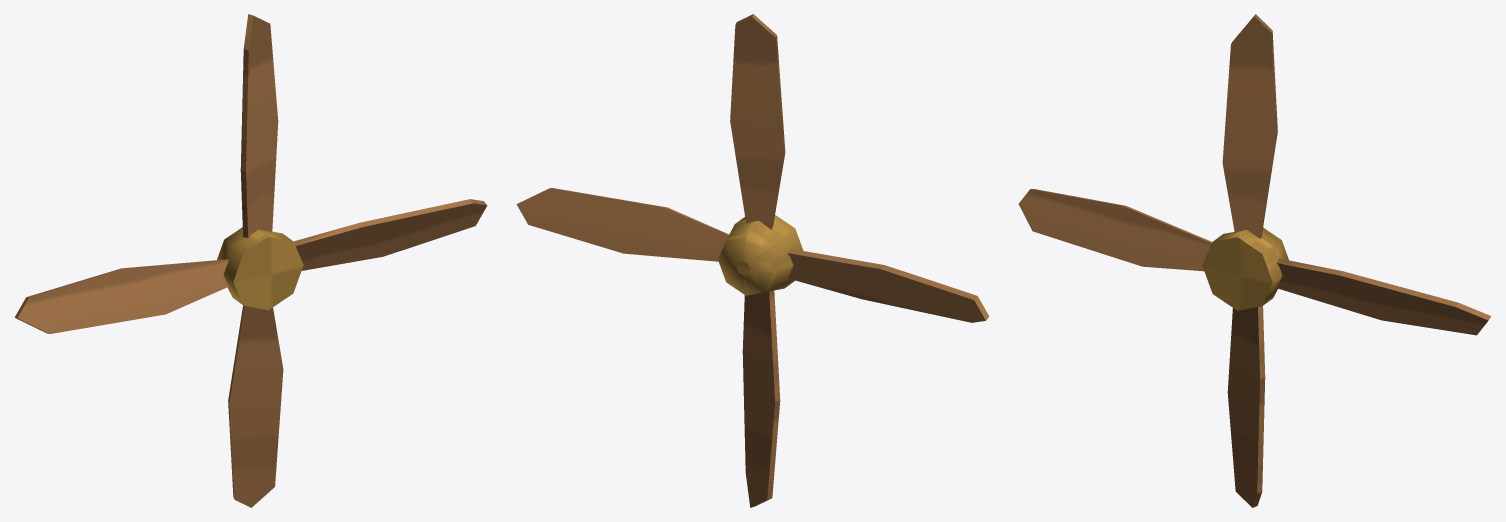
Rendered from SM_Ship_Propeller_HQ.glb.
The picture shows the model from 3 angles, left to right: view 1: azimuth 30°, elevation 25°; view 2: azimuth 150°, elevation 25°; view 3: azimuth 330°, elevation 25°; orthographic projection.
Visible parts, largest first — view 1: SM_Ship_Propeller_HQ; view 2: SM_Ship_Propeller_HQ; view 3: SM_Ship_Propeller_HQ.
Part boxes in pixels (left/top/right/bottom): SM_Ship_Propeller_HQ: left=14, top=14, right=487, bottom=507; SM_Ship_Propeller_HQ: left=516, top=14, right=989, bottom=507; SM_Ship_Propeller_HQ: left=1018, top=14, right=1491, bottom=507.
Bounding box in the file's own units: 2 × 2 × 0.2.
1 material, 1 textured.
